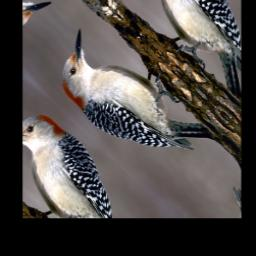Woodpecker: (43, 10, 214, 192)
